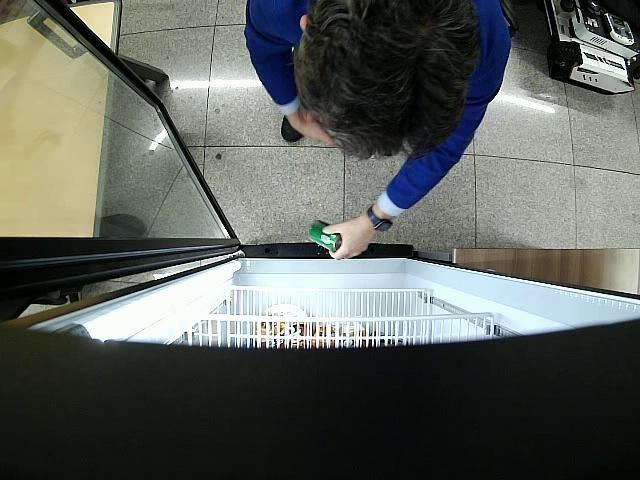12_chilsungCider: (308, 220, 342, 252)
